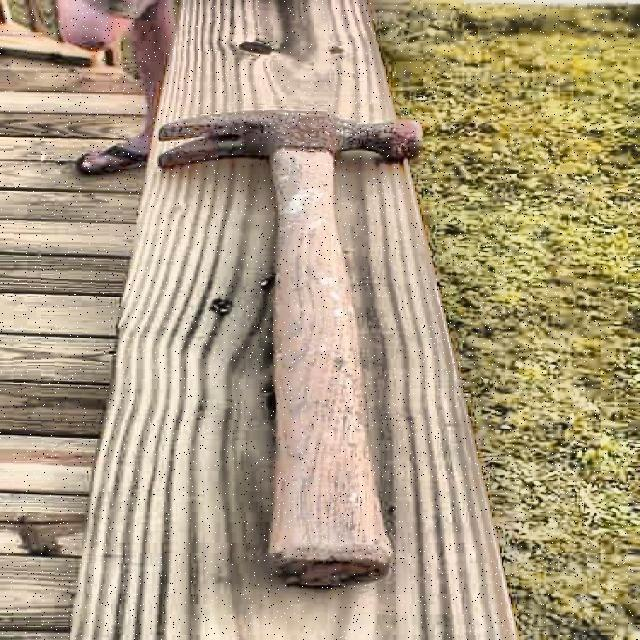hammer: (156, 109, 460, 590)
